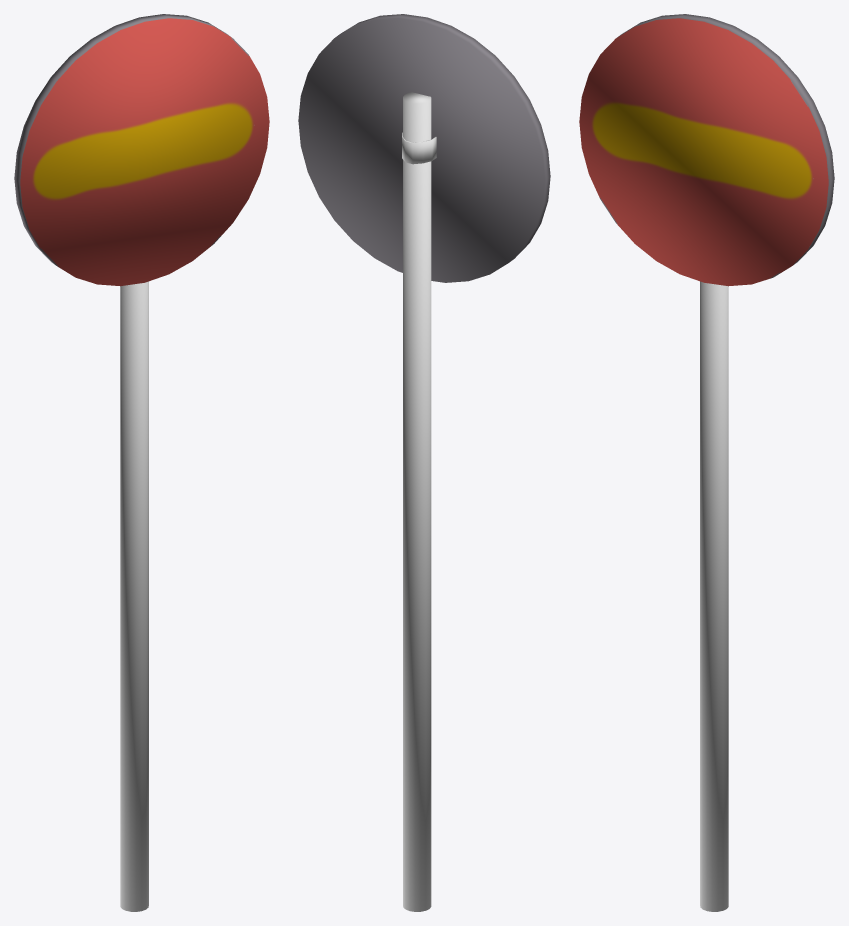
File: Forbidden direction.glb
3 renders of one model, left to right at view 1: azimuth 30°, elevation 25°; view 2: azimuth 150°, elevation 25°; view 3: azimuth 330°, elevation 25°, orthographic.
Parts seen in each view (by area): view 1: Circle.001, Cylinder; view 2: Circle.001, Cylinder, Cube; view 3: Circle.001, Cylinder.
Part boxes in pixels (x1,y1,x2,y2): Circle.001: [14, 14, 269, 286]; Cylinder: [120, 281, 148, 911]; Circle.001: [298, 14, 550, 282]; Cylinder: [403, 92, 431, 911]; Cube: [402, 132, 436, 164]; Circle.001: [579, 14, 834, 286]; Cylinder: [700, 281, 728, 911].
Bounding box in the file's own units: 3.19 × 10.89 × 0.4093.
2 materials, 1 textured.
